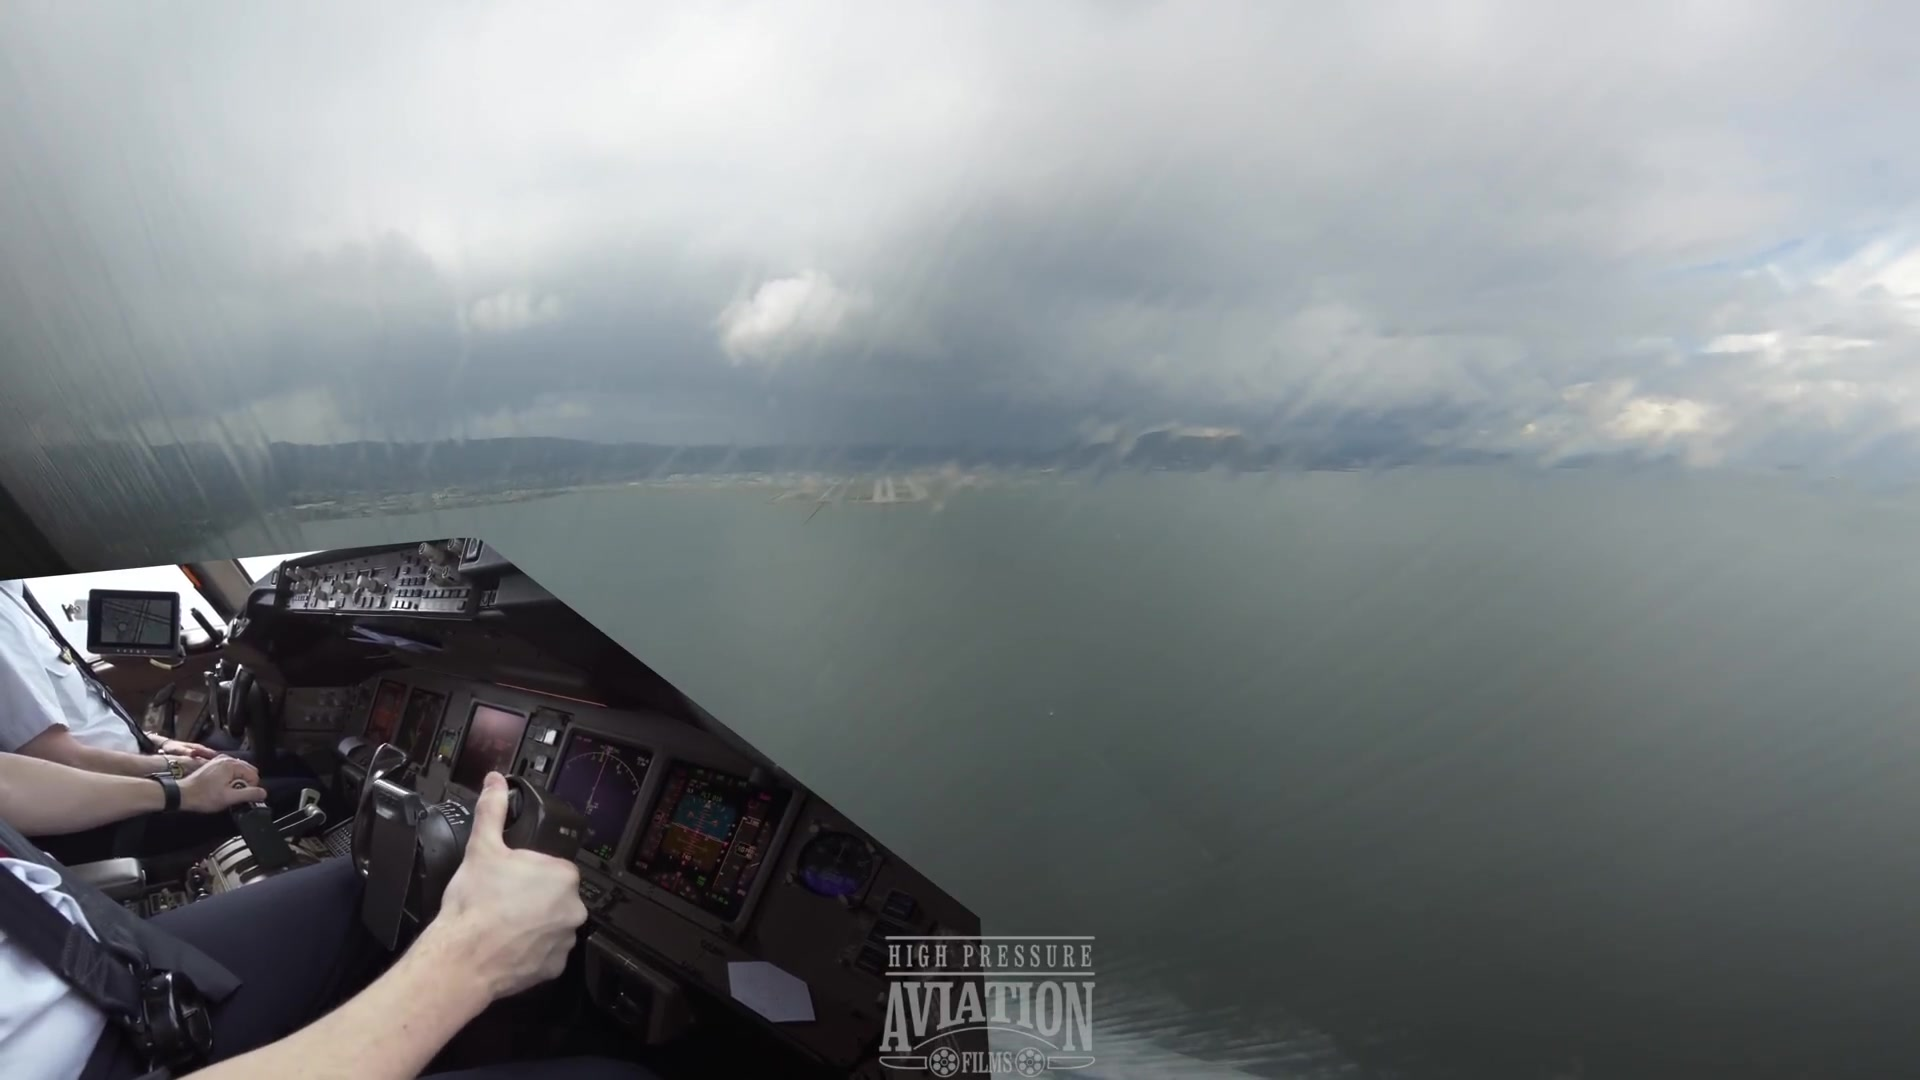runway: (907, 472, 938, 502), (870, 472, 897, 502)
